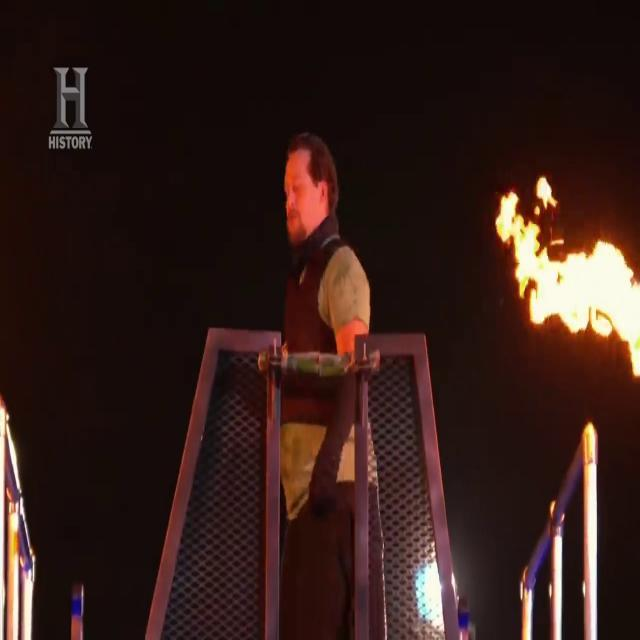Fire: (494, 160, 640, 378)
